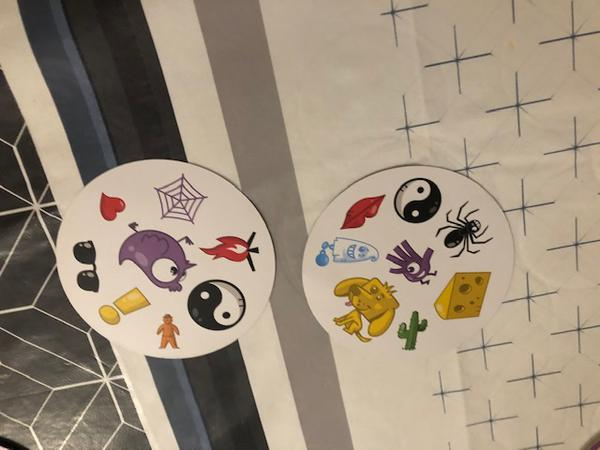araignee: (432, 201, 490, 260)
bonhomme: (151, 312, 189, 352)
bouche: (333, 188, 390, 229)
cactus: (395, 308, 430, 350)
chien: (327, 272, 397, 342)
coeur: (97, 190, 131, 223)
dooble: (386, 238, 438, 287)
fantome: (313, 234, 382, 270)
feu: (200, 228, 261, 270)
fromage: (430, 269, 496, 322)
lunette: (70, 239, 102, 294)
oiseau: (115, 221, 199, 294)
point_exclamation: (97, 286, 150, 326)
toile: (151, 171, 211, 226)
ying_yang: (185, 274, 251, 334), (391, 174, 441, 228)
